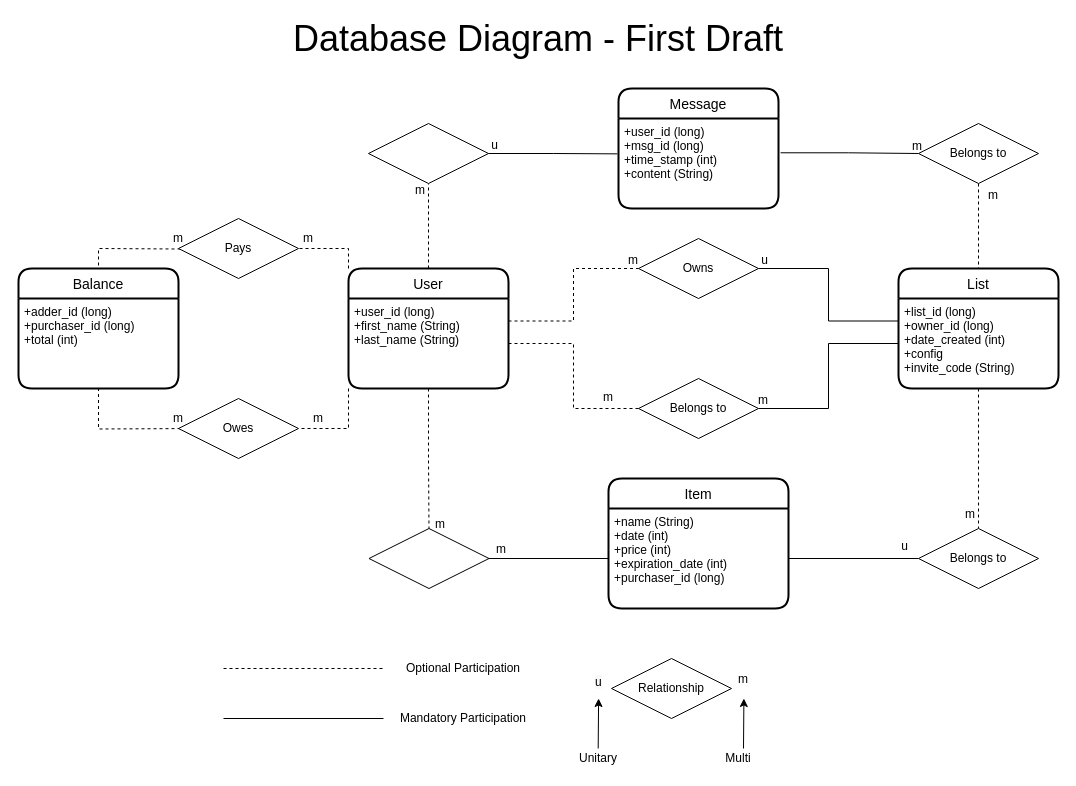
Image size: 1076x786. Some labels were removed from this diagram. Here are the shapes that lost their labels. From the top down, the centre of each, then its label:
At (428,153): "Sends".
At (428,558): "Purchases".
